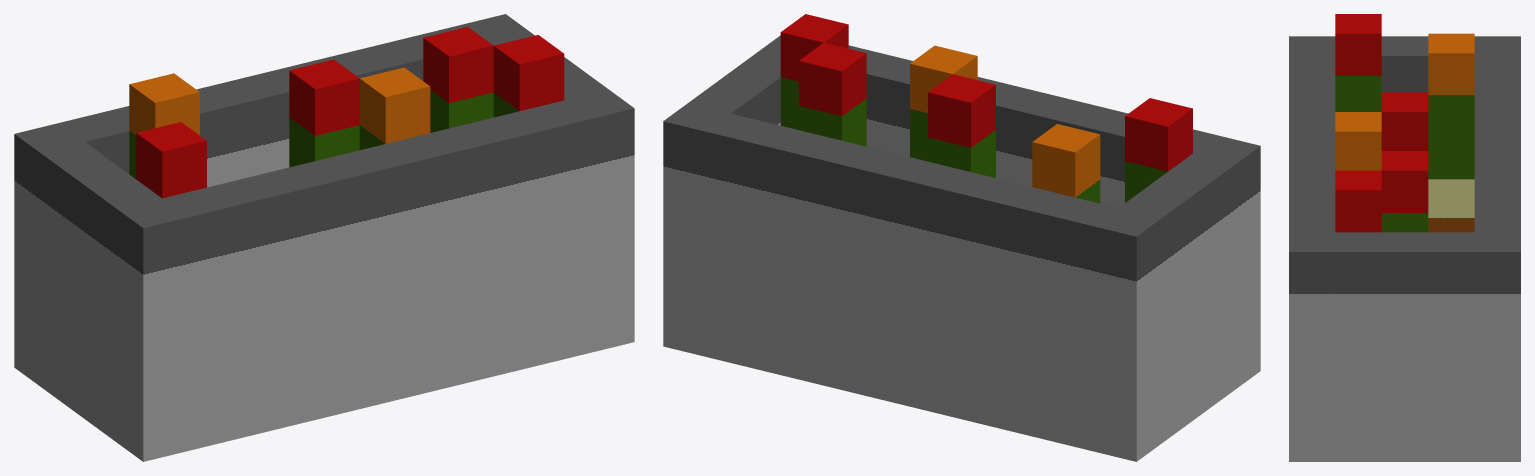
File: obj_planter3a.fbx
3 views of the same model, side by side, from view 1: azimuth 30°, elevation 25°; view 2: azimuth 150°, elevation 25°; view 3: azimuth 270°, elevation 25° (orthographic). The views are drawn at different scales.
Parts seen in each view (by area): view 1: obj_planter3a; view 2: obj_planter3a; view 3: obj_planter3a.
Boxes of the visible parts, left/top/right/bottom form: obj_planter3a: left=14, top=14, right=634, bottom=461; obj_planter3a: left=663, top=14, right=1260, bottom=461; obj_planter3a: left=1289, top=14, right=1520, bottom=461.
Size of the model in its own units: 1.1 by 0.5 by 0.6.
1 material, 1 textured.
